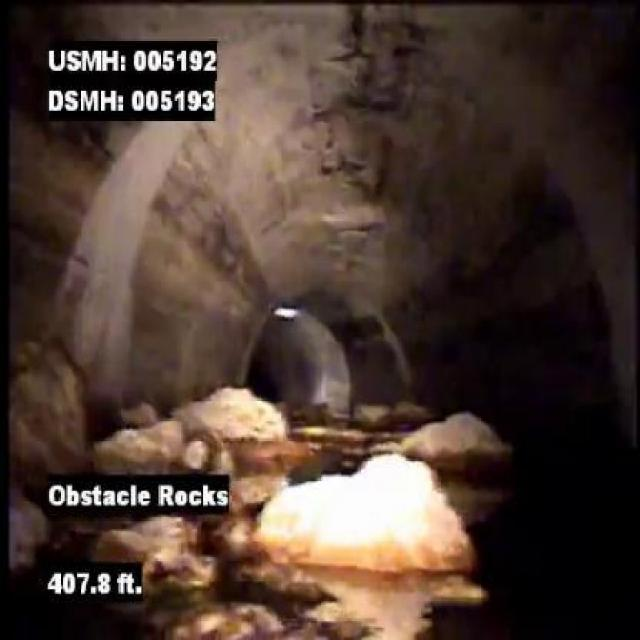Crack: (330, 3, 388, 71)
Debris: (252, 406, 510, 608), (9, 369, 260, 477)
